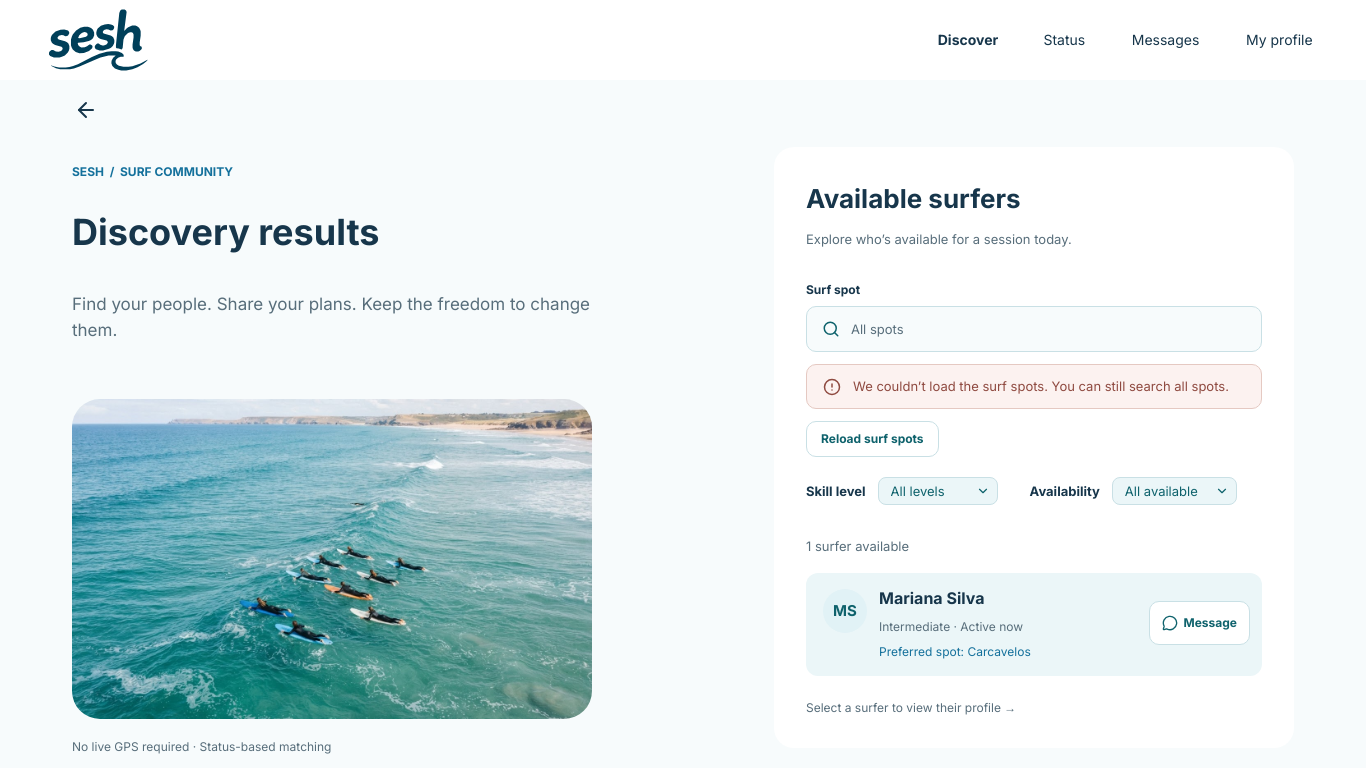
Scenario: filters › if the surf spots cannot be loaded, Discover still works and the spots can be retried
Expected: the list named "Available surfers" is shown, [806,573,1262,676]
Expected: the text "We couldn’t load the surf spots" is shown, [853,378,1229,394]
Click the button "Reload surf spots".
click(872, 439)  # box [806,421,939,457]
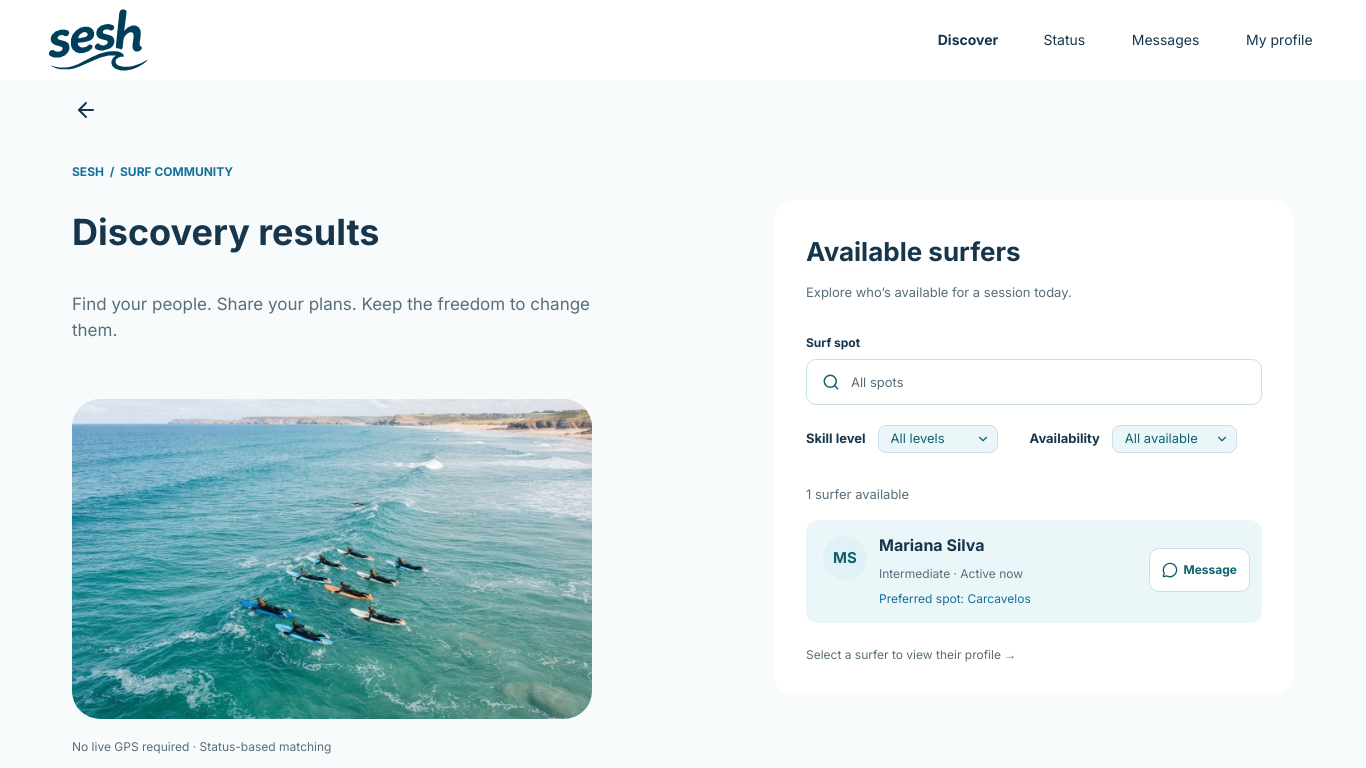
Expected: the dropdown labelled "Surf spot" is enabled
Click the dropdown labelled "Surf spot".
click(1034, 382)  # box [806,358,1262,404]
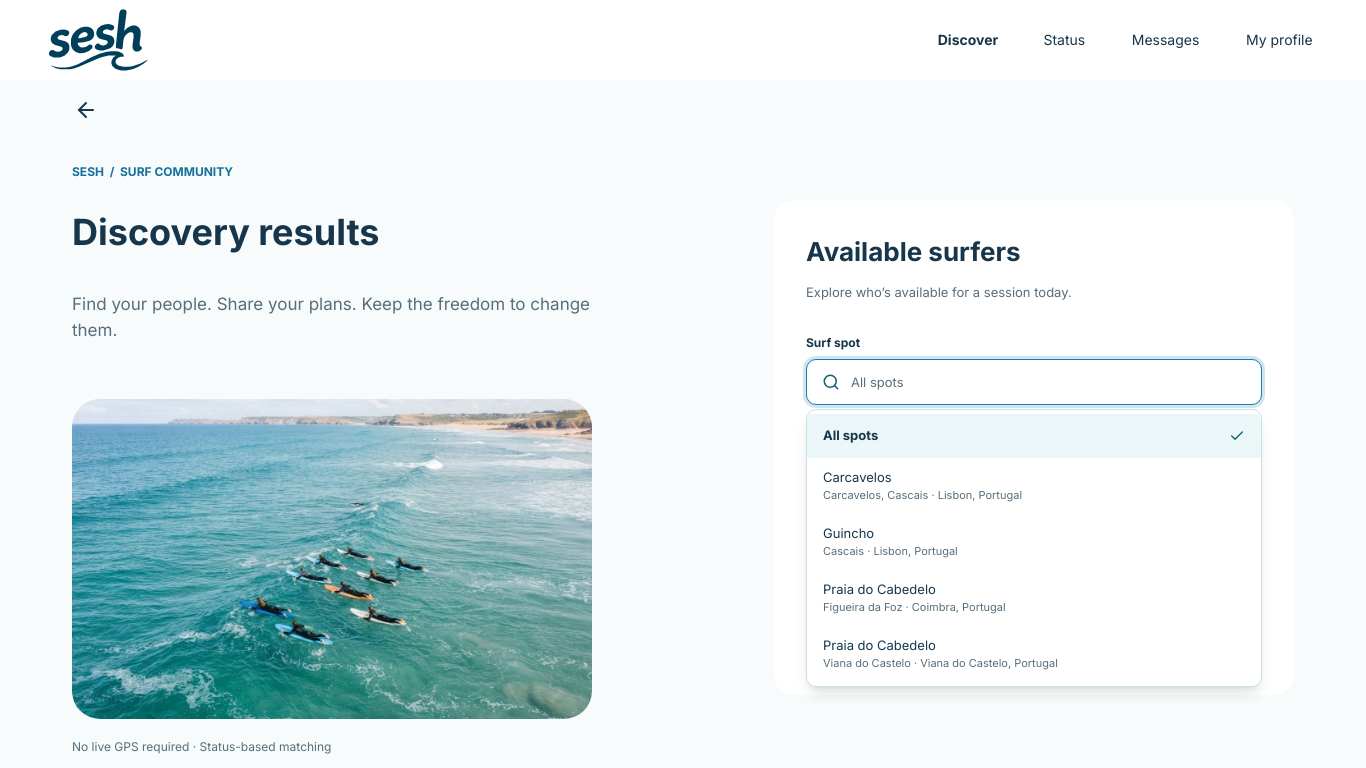
Expected: the number of options is 5, [807,414,1261,458]; [823,468,1022,502]; [823,524,958,558]; [823,580,1006,614]; [823,636,1058,670]
